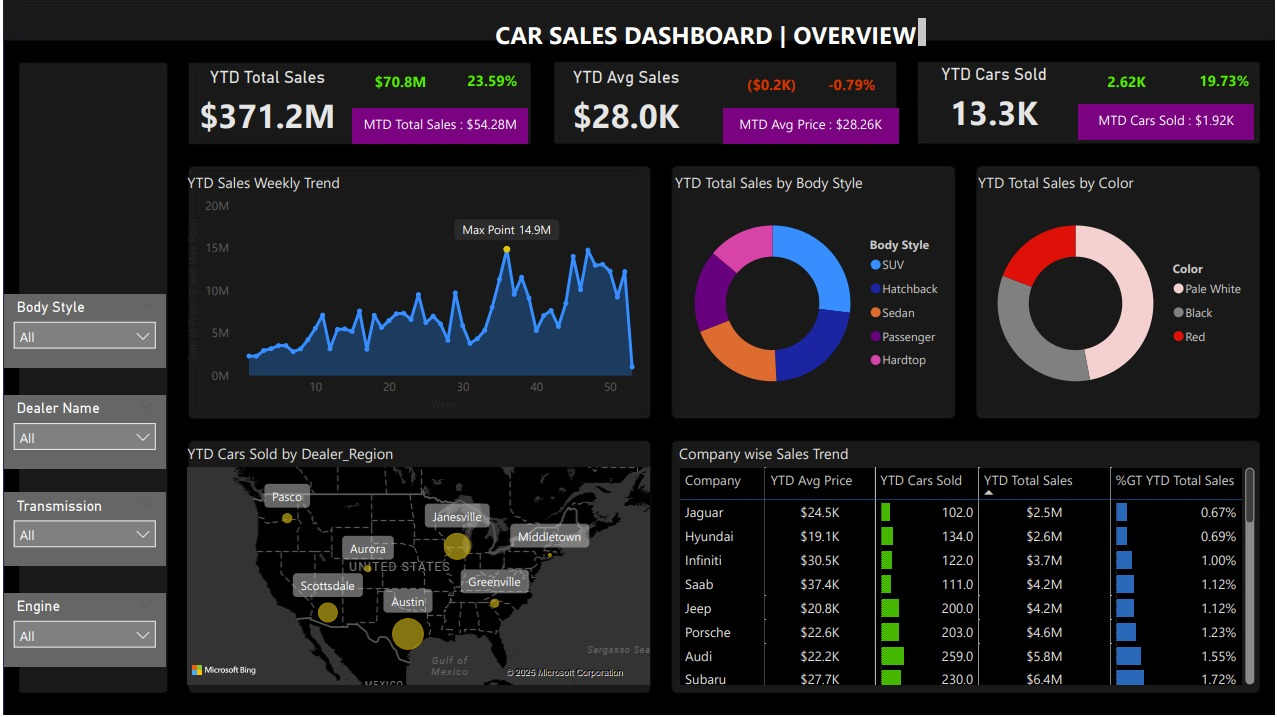

The page's visual inventory and layout, read from the dashboard file:
{"tool":"powerbi","page":{"name":"Page 1","canvas":[1280,720],"ordinal":0},"visuals":[{"type":"card","title":"YTD Total Sales","fields":{"Values":["car_data.YTD Total Sales"]},"box":[179.6,67,171.1,77],"z":0},{"type":"card","fields":{"Values":["car_data.Sales Difference"]},"box":[358.8,63.7,81,39.1],"z":1000},{"type":"card","fields":{"Values":["car_data.YOY Sales Growth"]},"box":[455.6,61.7,72.7,39.8],"z":2000},{"type":"card","fields":{"Values":["car_data.MTD KPI"]},"box":[351.3,108.4,177,35.7],"z":3000},{"type":"card","title":"YTD Avg Sales","fields":{"Values":["car_data.YTD Avg Price"]},"box":[541.8,67,169.7,77],"z":4000},{"type":"card","fields":{"Values":["car_data.Avg Price Diff"]},"box":[724.5,65.9,96.1,39.8],"z":5000},{"type":"card","fields":{"Values":["car_data.YOY Avg Price Growth"]},"box":[805.5,65.9,96.1,39.8],"z":6000},{"type":"card","fields":{"Values":["car_data.MTD Avg Price KPI"]},"box":[724.3,108.4,176.8,35.6],"z":7000},{"type":"card","title":"YTD Cars Sold","fields":{"Values":["car_data.YTD Cars Sold"]},"box":[912.5,64.2,169.7,77],"z":8000},{"type":"card","fields":{"Values":["car_data.Cars Sold Diff"]},"box":[1082.1,62.7,96.9,39.9],"z":9000},{"type":"card","fields":{"Values":["car_data.YOY Car Sold Growth"]},"box":[1180.1,61.7,97.4,39.8],"z":10000},{"type":"card","fields":{"Values":["car_data.MTD Cars Sold KPI"]},"box":[1082.1,104.1,176.8,35.6],"z":11000},{"type":"areaChart","title":"YTD Sales Weekly Trend","fields":{"Category":["Calendar Table.Week"],"Y":["Sum(car_data.Price ($))","car_data.Max Point"]},"box":[179.8,171.5,474.8,245.6],"z":12000},{"type":"donutChart","fields":{"Category":["car_data.Body Style"],"Y":["car_data.YTD Total Sales"]},"box":[671,171.5,284,245.6],"z":13000},{"type":"donutChart","fields":{"Category":["car_data.Color"],"Y":["car_data.YTD Total Sales"]},"box":[975.6,171.5,284,245.6],"z":14000},{"type":"map","fields":{"Category":["car_data.Dealer_Region"],"Size":["car_data.YTD Cars Sold"]},"box":[179.8,444.6,474.8,248.4],"z":15000},{"type":"tableEx","title":"Company wise Sales Trend","fields":{"Values":["car_data.Company","car_data.YTD Avg Price","car_data.YTD Cars Sold","car_data.YTD Total Sales1","car_data.YTD Total Sales"]},"box":[675.1,444.6,588.7,248.4],"z":16000},{"type":"textbox","box":[489.9,12.3,443.2,39.8],"z":17000},{"type":"slicer","fields":{"Values":["car_data.Body Style"]},"box":[0,295,163.3,74.1],"z":18000},{"type":"slicer","fields":{"Values":["car_data.Dealer_Name"]},"box":[0,396.6,163.3,74.1],"z":19000},{"type":"slicer","fields":{"Values":["car_data.Transmission"]},"box":[0,495.4,163.3,74.1],"z":20000},{"type":"slicer","fields":{"Values":["car_data.Engine"]},"box":[0,595.5,163.3,74.1],"z":21000}]}

Visuals, with their boxes in screenshot pixels (x1, y1, x2, y2), scaled from the page's 1280x720 canvas onto the 1277x717 screenshot:
"YTD Total Sales" card: BBox(179, 67, 350, 143)
card - car_data.Sales Difference: BBox(358, 63, 439, 102)
card - car_data.YOY Sales Growth: BBox(455, 61, 527, 101)
card - car_data.MTD KPI: BBox(350, 108, 527, 143)
"YTD Avg Sales" card: BBox(541, 67, 710, 143)
card - car_data.Avg Price Diff: BBox(723, 66, 819, 105)
card - car_data.YOY Avg Price Growth: BBox(804, 66, 899, 105)
card - car_data.MTD Avg Price KPI: BBox(723, 108, 899, 143)
"YTD Cars Sold" card: BBox(910, 64, 1080, 141)
card - car_data.Cars Sold Diff: BBox(1080, 62, 1176, 102)
card - car_data.YOY Car Sold Growth: BBox(1177, 61, 1275, 101)
card - car_data.MTD Cars Sold KPI: BBox(1080, 104, 1256, 139)
"YTD Sales Weekly Trend" areaChart: BBox(179, 171, 653, 415)
donutChart - car_data.Body Style x car_data.YTD Total Sales: BBox(669, 171, 953, 415)
donutChart - car_data.Color x car_data.YTD Total Sales: BBox(973, 171, 1257, 415)
map - car_data.Dealer_Region x car_data.YTD Cars Sold: BBox(179, 443, 653, 690)
"Company wise Sales Trend" tableEx: BBox(674, 443, 1261, 690)
textbox: BBox(489, 12, 931, 52)
slicer - car_data.Body Style: BBox(0, 294, 163, 368)
slicer - car_data.Dealer_Name: BBox(0, 395, 163, 469)
slicer - car_data.Transmission: BBox(0, 493, 163, 567)
slicer - car_data.Engine: BBox(0, 593, 163, 667)
